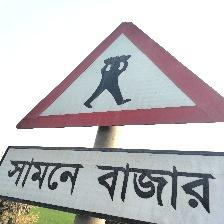Market-in-front: (3, 21, 223, 224)
